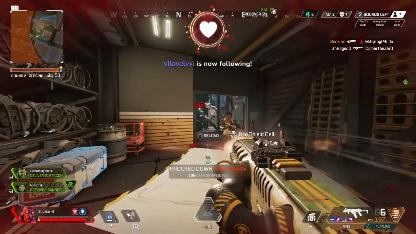Target: (223, 112, 233, 138)
